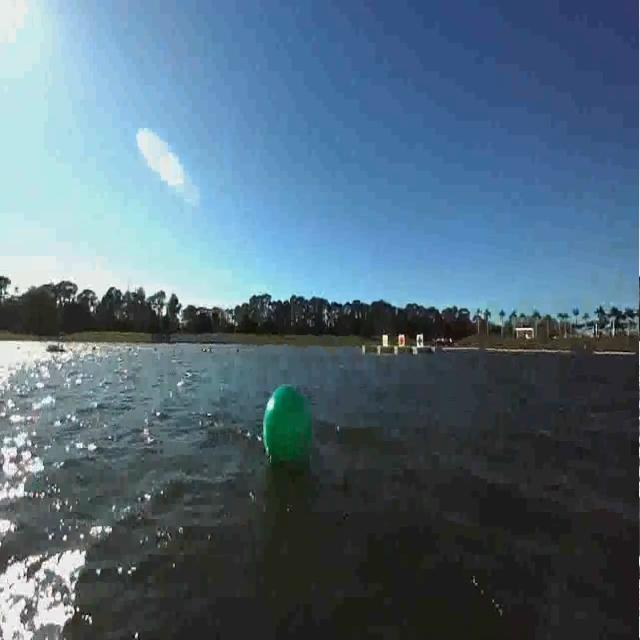green-buoy: (261, 381, 314, 467)
